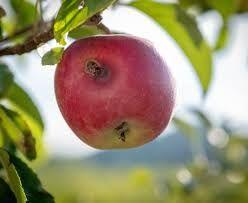Apple: (54, 36, 175, 148)
